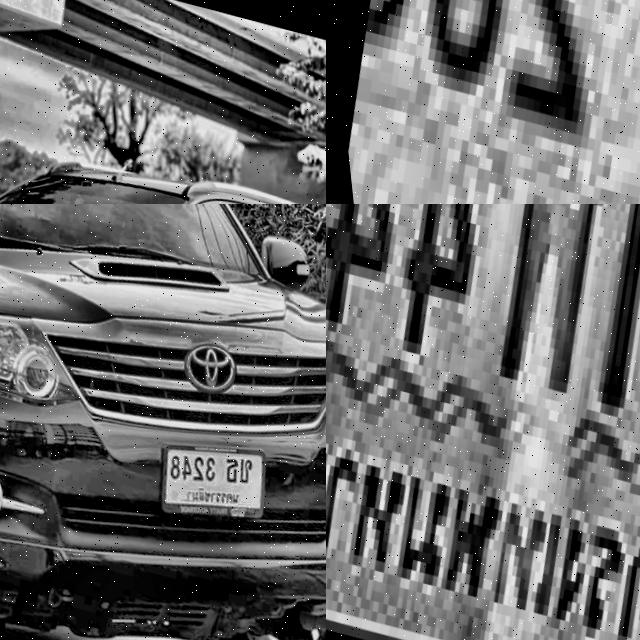license-plate: (326, 204, 640, 640), (326, 0, 640, 204), (139, 420, 269, 534)
